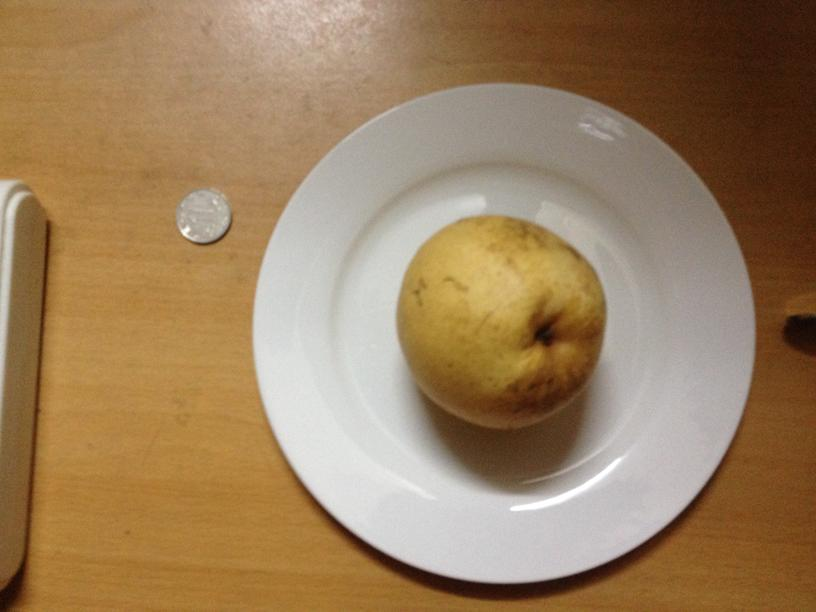coin: (171, 186, 233, 244)
pear: (392, 217, 608, 429)
